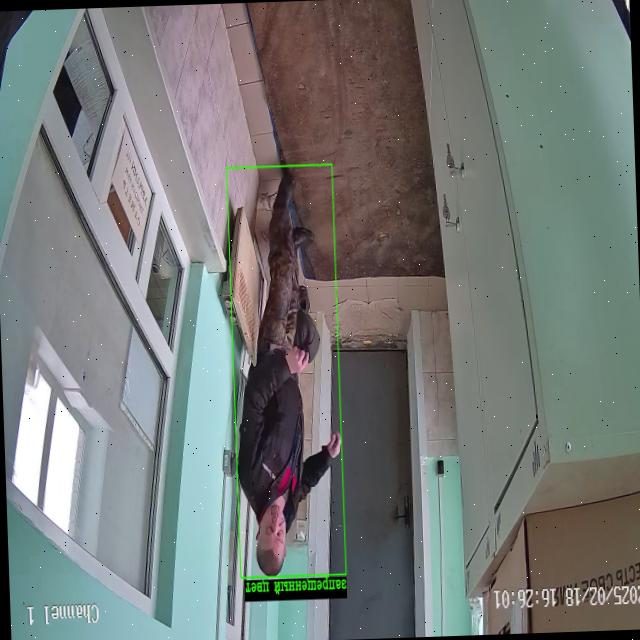Person: (239, 228, 340, 576)
